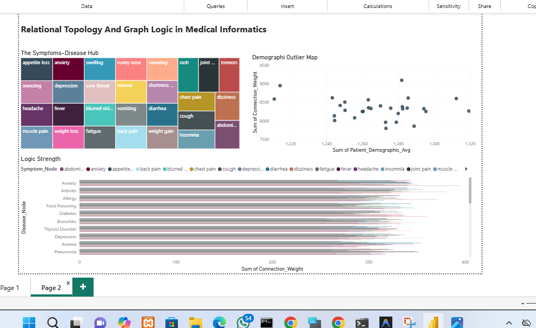

Layout of this report page (visuals, bound fields, positions):
{"tool":"powerbi","page":{"name":"Page 2","canvas":[1280,720],"ordinal":1},"visuals":[{"type":"treemap","title":"The Symptoms-Disease Hub","fields":{"Group":["graph_logic_view.Symptom_Node"],"Values":["Sum(graph_logic_view.Connection_Weight)"]},"box":[0,100.8,614.8,280.5],"z":0},{"type":"clusteredBarChart","title":" Logic Strength","fields":{"Category":["graph_logic_view.Disease_Node"],"Y":["Sum(graph_logic_view.Connection_Weight)"],"Series":["graph_logic_view.Symptom_Node"]},"box":[0,393.1,1256.5,327.6],"z":1000},{"type":"scatterChart","title":"Demographi Outlier Map","fields":{"X":["Sum(graph_logic_view.Patient_Demographic_Avg)"],"Y":["Sum(graph_logic_view.Connection_Weight)"],"Category":["graph_logic_view.Disease_Node"]},"box":[640,112.5,628.2,280.5],"z":2000},{"type":"textbox","box":[0,21.8,698.8,58.8],"z":3000}]}

Visuals, with their boxes on the page's 1280x720 design canvas (x1, y1, x2, y2). These are canvas units, not pixel positions in the 536x328 screenshot, which may show the page scaled, cropped or inside an application window:
"The Symptoms-Disease Hub" treemap: {"left": 0, "top": 101, "right": 615, "bottom": 381}
" Logic Strength" clusteredBarChart: {"left": 0, "top": 393, "right": 1256, "bottom": 721}
"Demographi Outlier Map" scatterChart: {"left": 640, "top": 112, "right": 1268, "bottom": 393}
textbox: {"left": 0, "top": 22, "right": 699, "bottom": 81}
